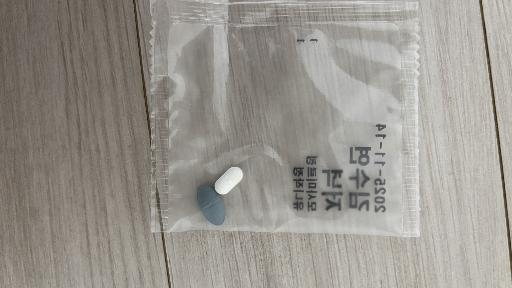Mosamir: (214, 167, 243, 195)
Unizac: (197, 185, 225, 226)
vinyl: (149, 0, 420, 237)
